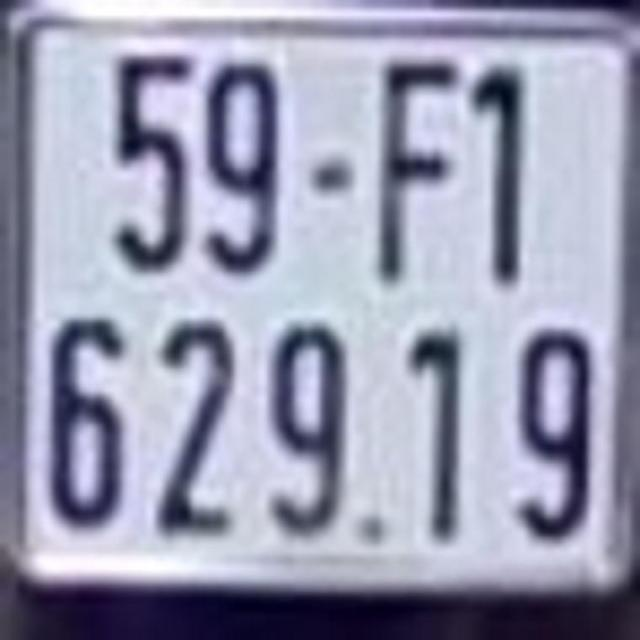1: (471, 52, 528, 294), (407, 321, 462, 546)
2: (157, 313, 234, 530)
5: (109, 47, 191, 267)
6: (42, 308, 124, 527)
9: (265, 312, 346, 539), (510, 318, 592, 540), (200, 54, 282, 276)
F: (371, 52, 461, 286)
